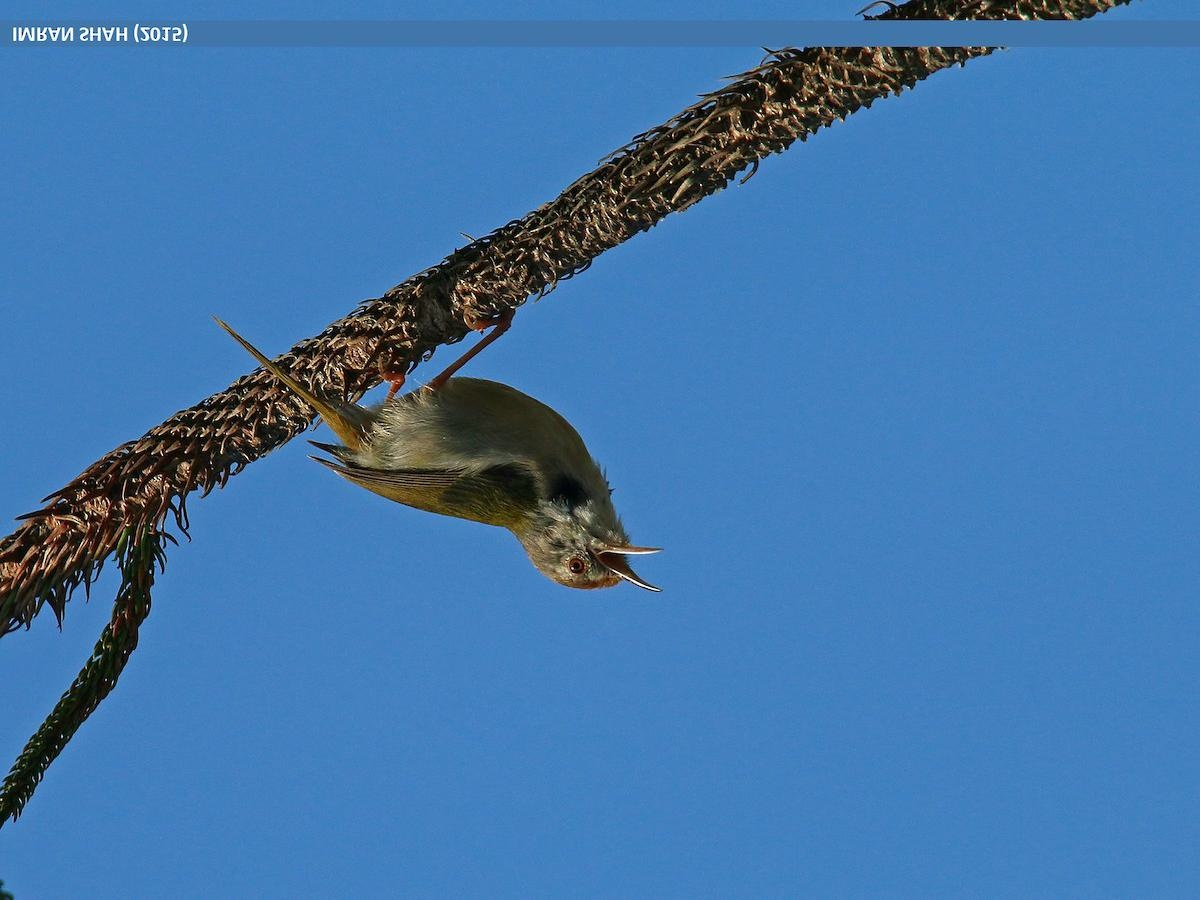tailorbird: (206, 247, 696, 638)
